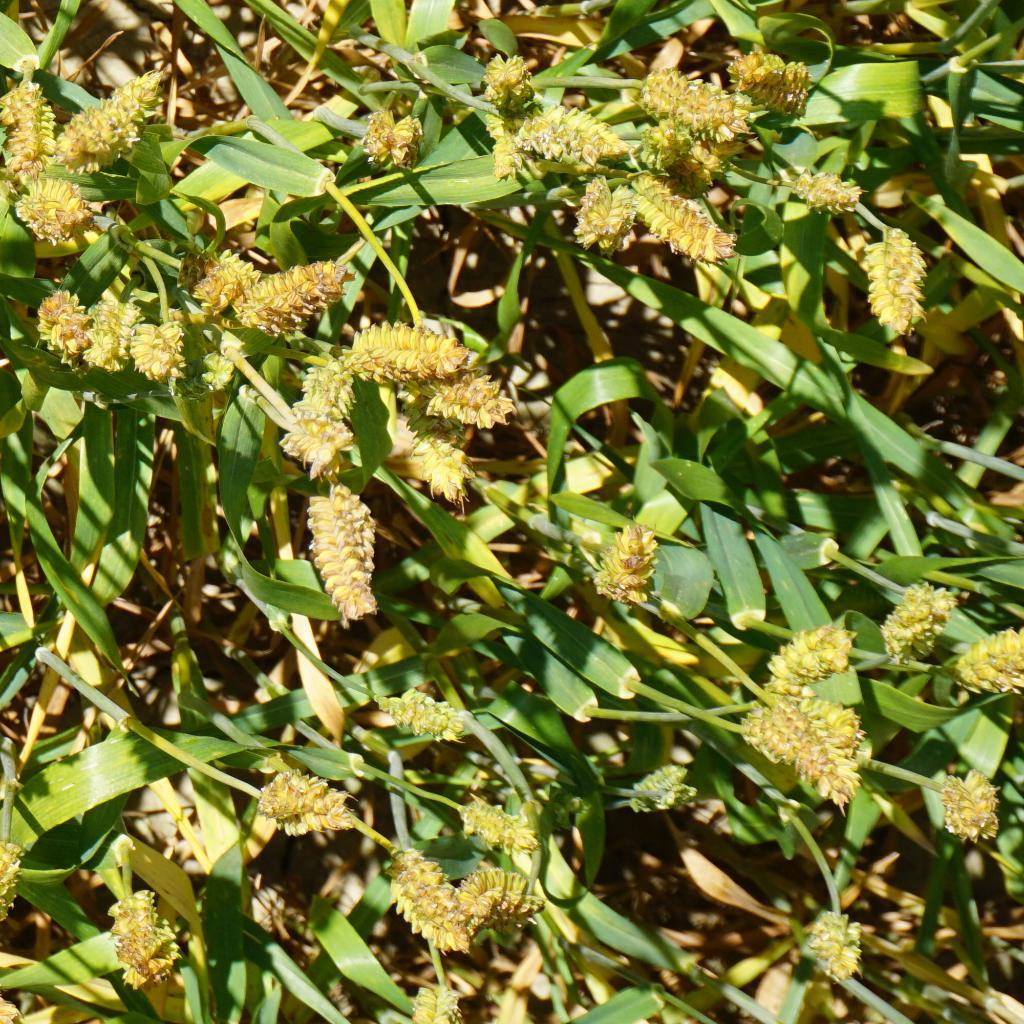0-0: (49, 64, 183, 179), (743, 694, 850, 796), (297, 486, 378, 618), (385, 833, 473, 948), (628, 167, 731, 256), (348, 315, 489, 380), (103, 886, 184, 992), (859, 214, 928, 338), (645, 69, 752, 147), (786, 678, 877, 758), (256, 769, 348, 841), (252, 251, 345, 320), (460, 851, 551, 920), (883, 581, 948, 676), (0, 69, 53, 182), (334, 479, 400, 567), (595, 523, 672, 598), (516, 98, 610, 157), (772, 612, 851, 681), (395, 431, 482, 492), (382, 672, 460, 738), (467, 796, 547, 860), (958, 615, 1024, 689), (19, 180, 95, 243), (36, 281, 93, 364), (570, 175, 636, 246), (932, 764, 995, 837), (644, 118, 719, 179), (355, 111, 431, 170), (729, 51, 804, 109), (425, 375, 508, 426), (275, 419, 355, 470), (807, 900, 863, 971), (89, 291, 137, 372), (627, 758, 689, 819), (479, 47, 540, 108), (793, 164, 861, 214), (301, 362, 361, 418), (132, 316, 187, 376), (409, 975, 471, 1024), (199, 248, 250, 304)
